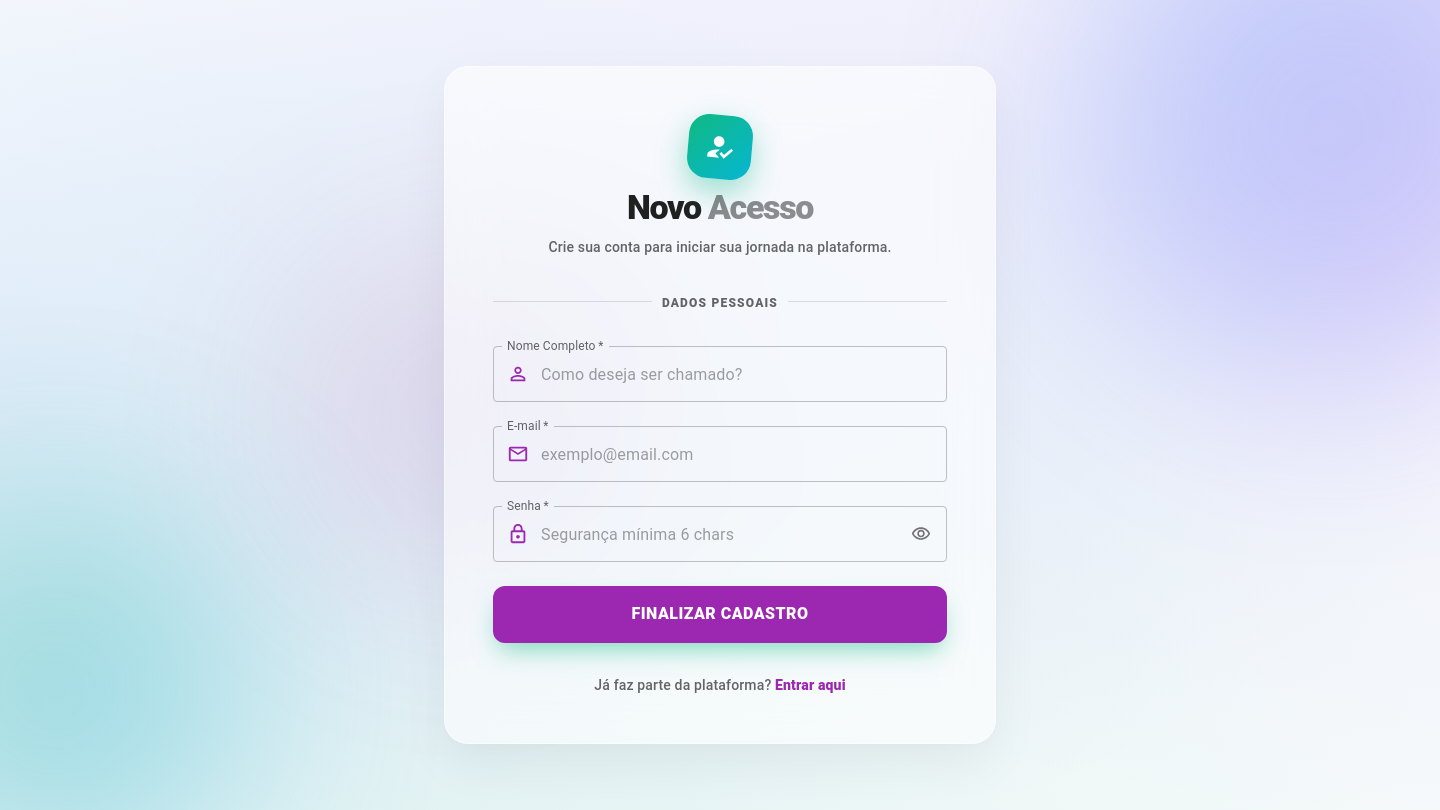
Test: RegisterForm › exibe erro quando cadastro falha
The image size is (1440, 810).
Type "João" into the field labelled "Nome Completo *" at (744, 374), box 541,346 -> 947,402
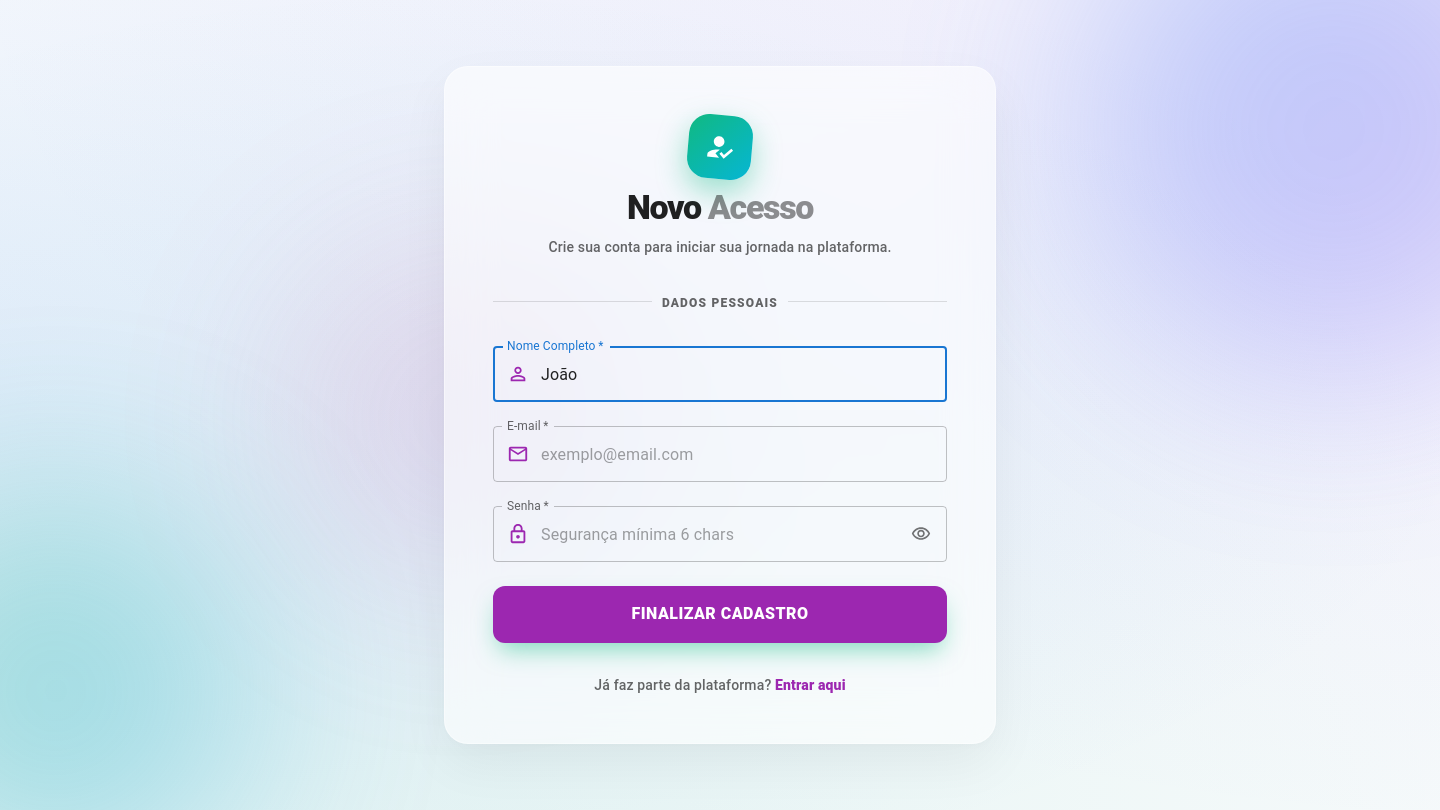
Type "joao@email.com" into the field labelled "E-mail *" at (744, 454), box 541,426 -> 947,482
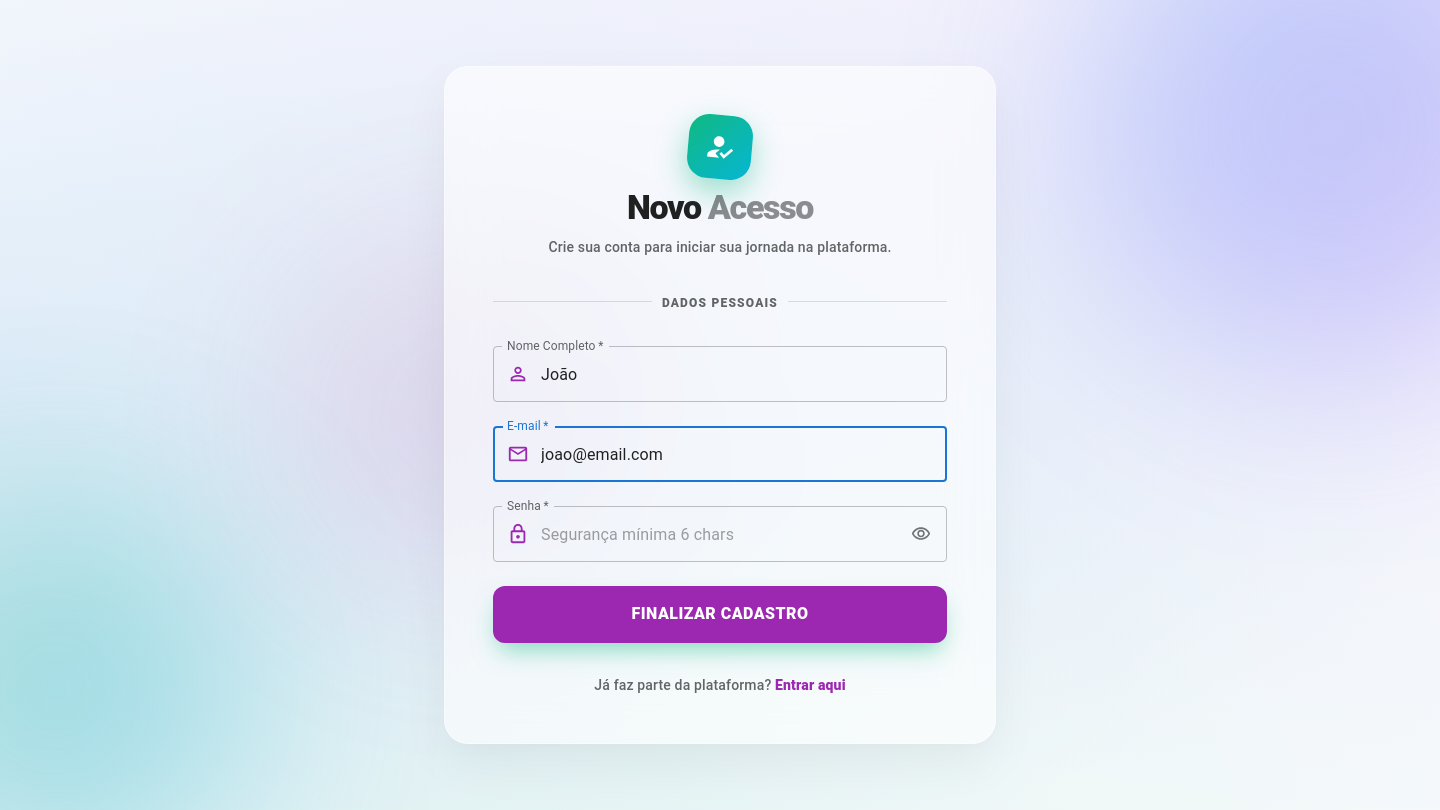
Type "senha123" into the password field labelled "Senha *" at (720, 534), box 541,506 -> 898,562
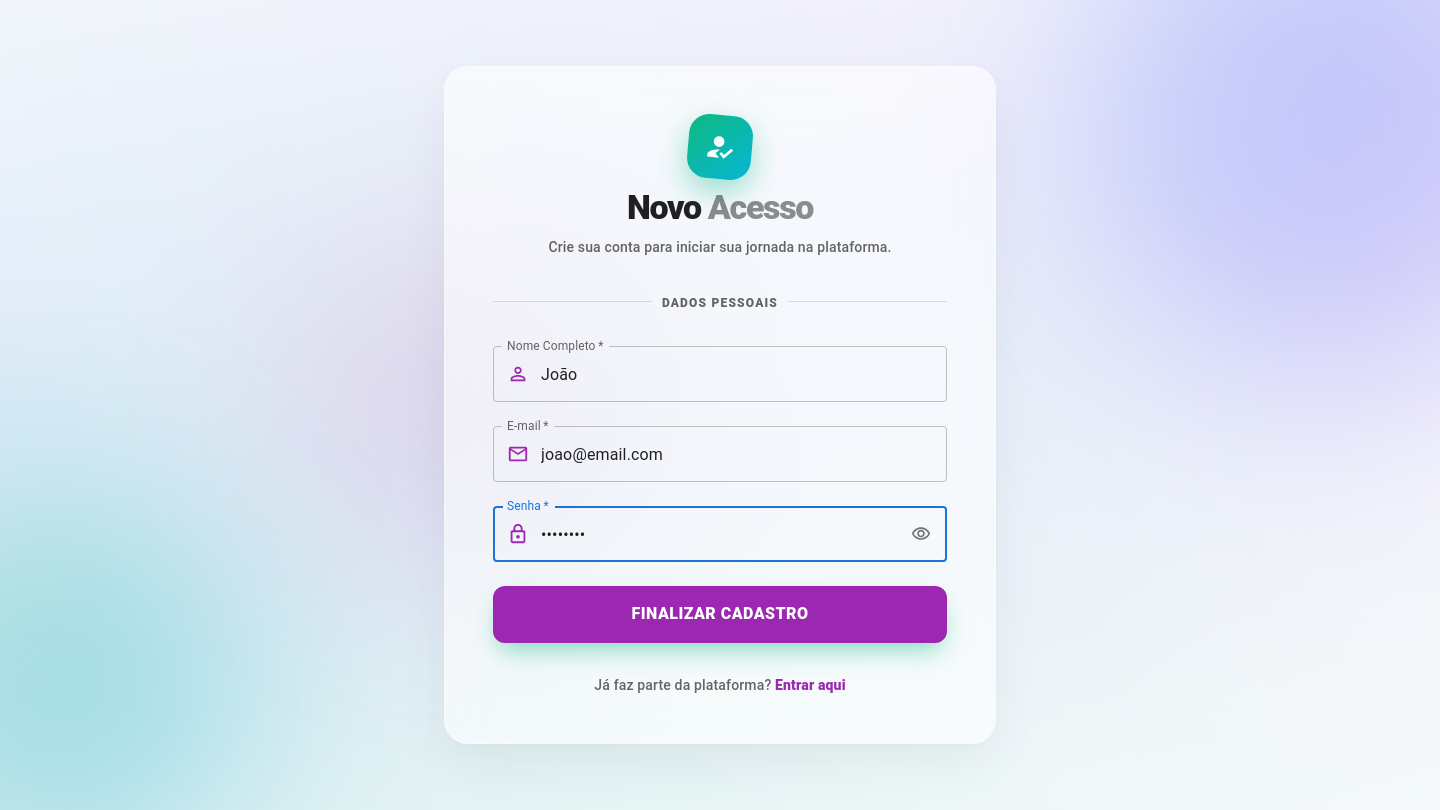
Click the button "Finalizar Cadastro" at (720, 614), box 493,586 -> 947,643
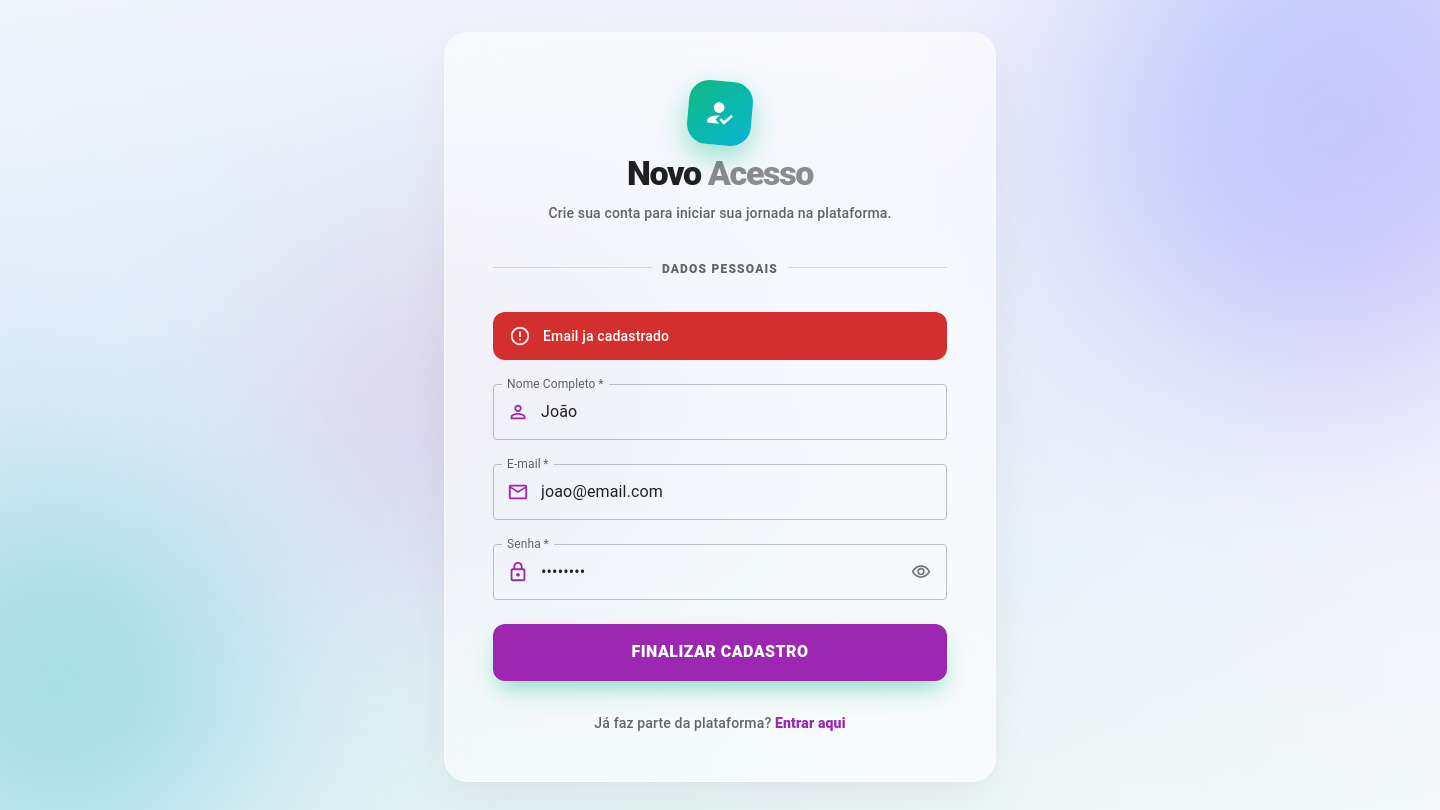
expect the text "Email ja cadastrado" is shown: met, box 543,328 -> 669,344
